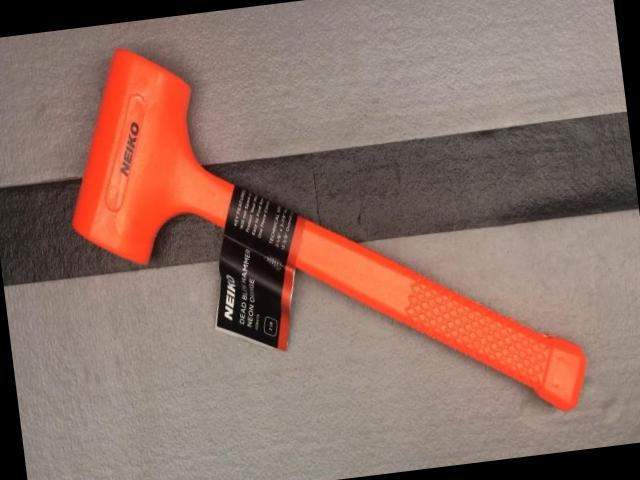hammer: (50, 0, 593, 467)
